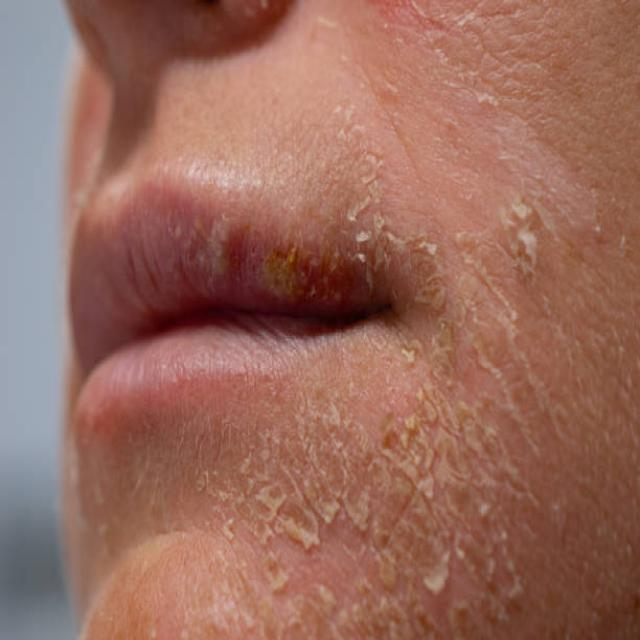flakiness: (344, 135, 543, 618), (212, 420, 328, 624)
